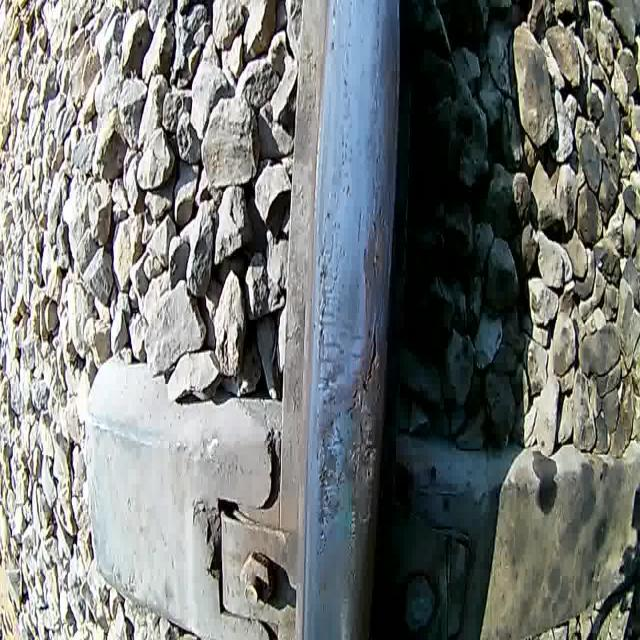Cracks: (344, 301, 381, 426), (315, 228, 345, 368)
Squats: (312, 188, 394, 569)
